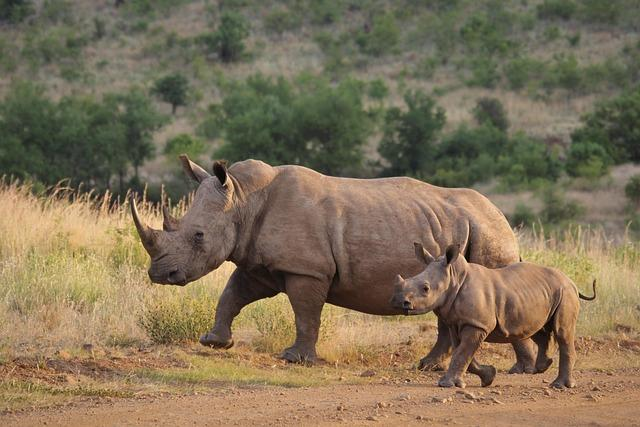Non_Gorille: (91, 81, 636, 392)
